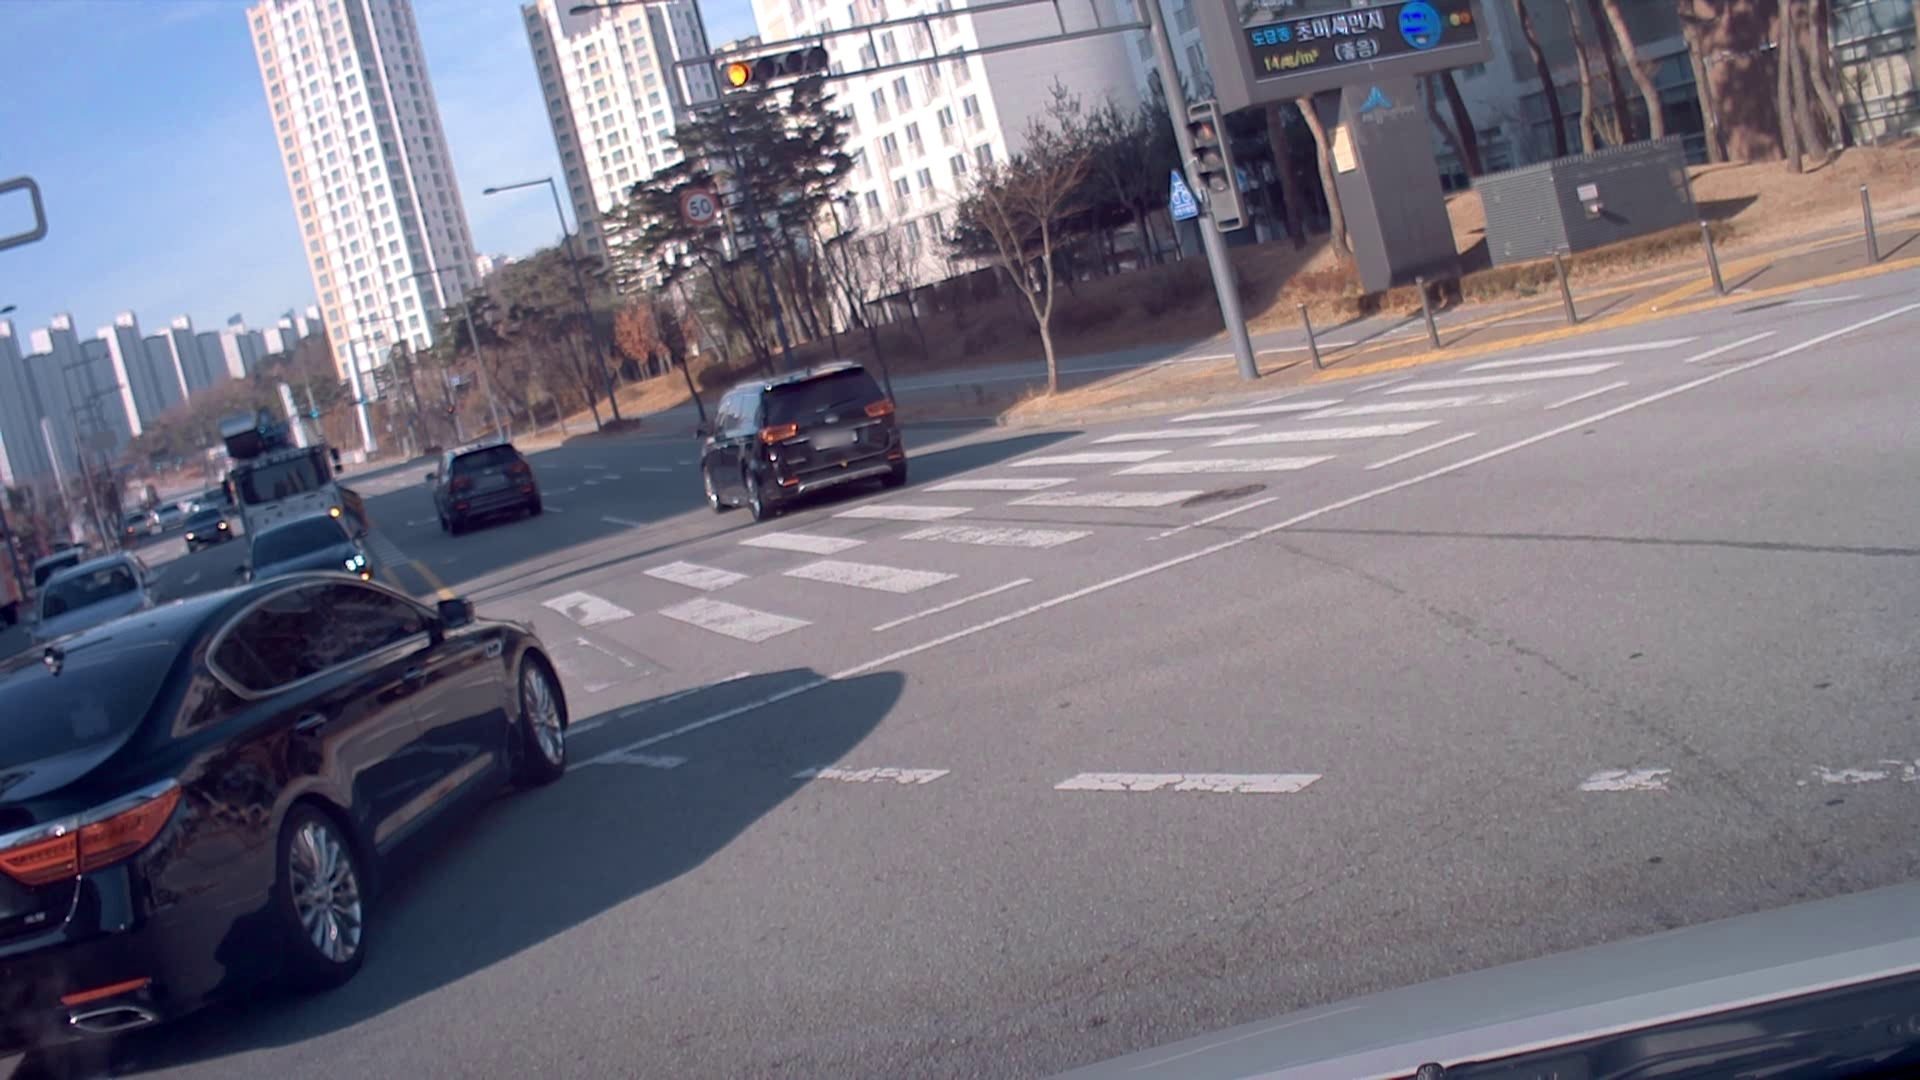trafficLight: (719, 36, 827, 96)
trafficSignCircle: (684, 187, 721, 228)
trafficSignTri: (1164, 167, 1199, 227)
